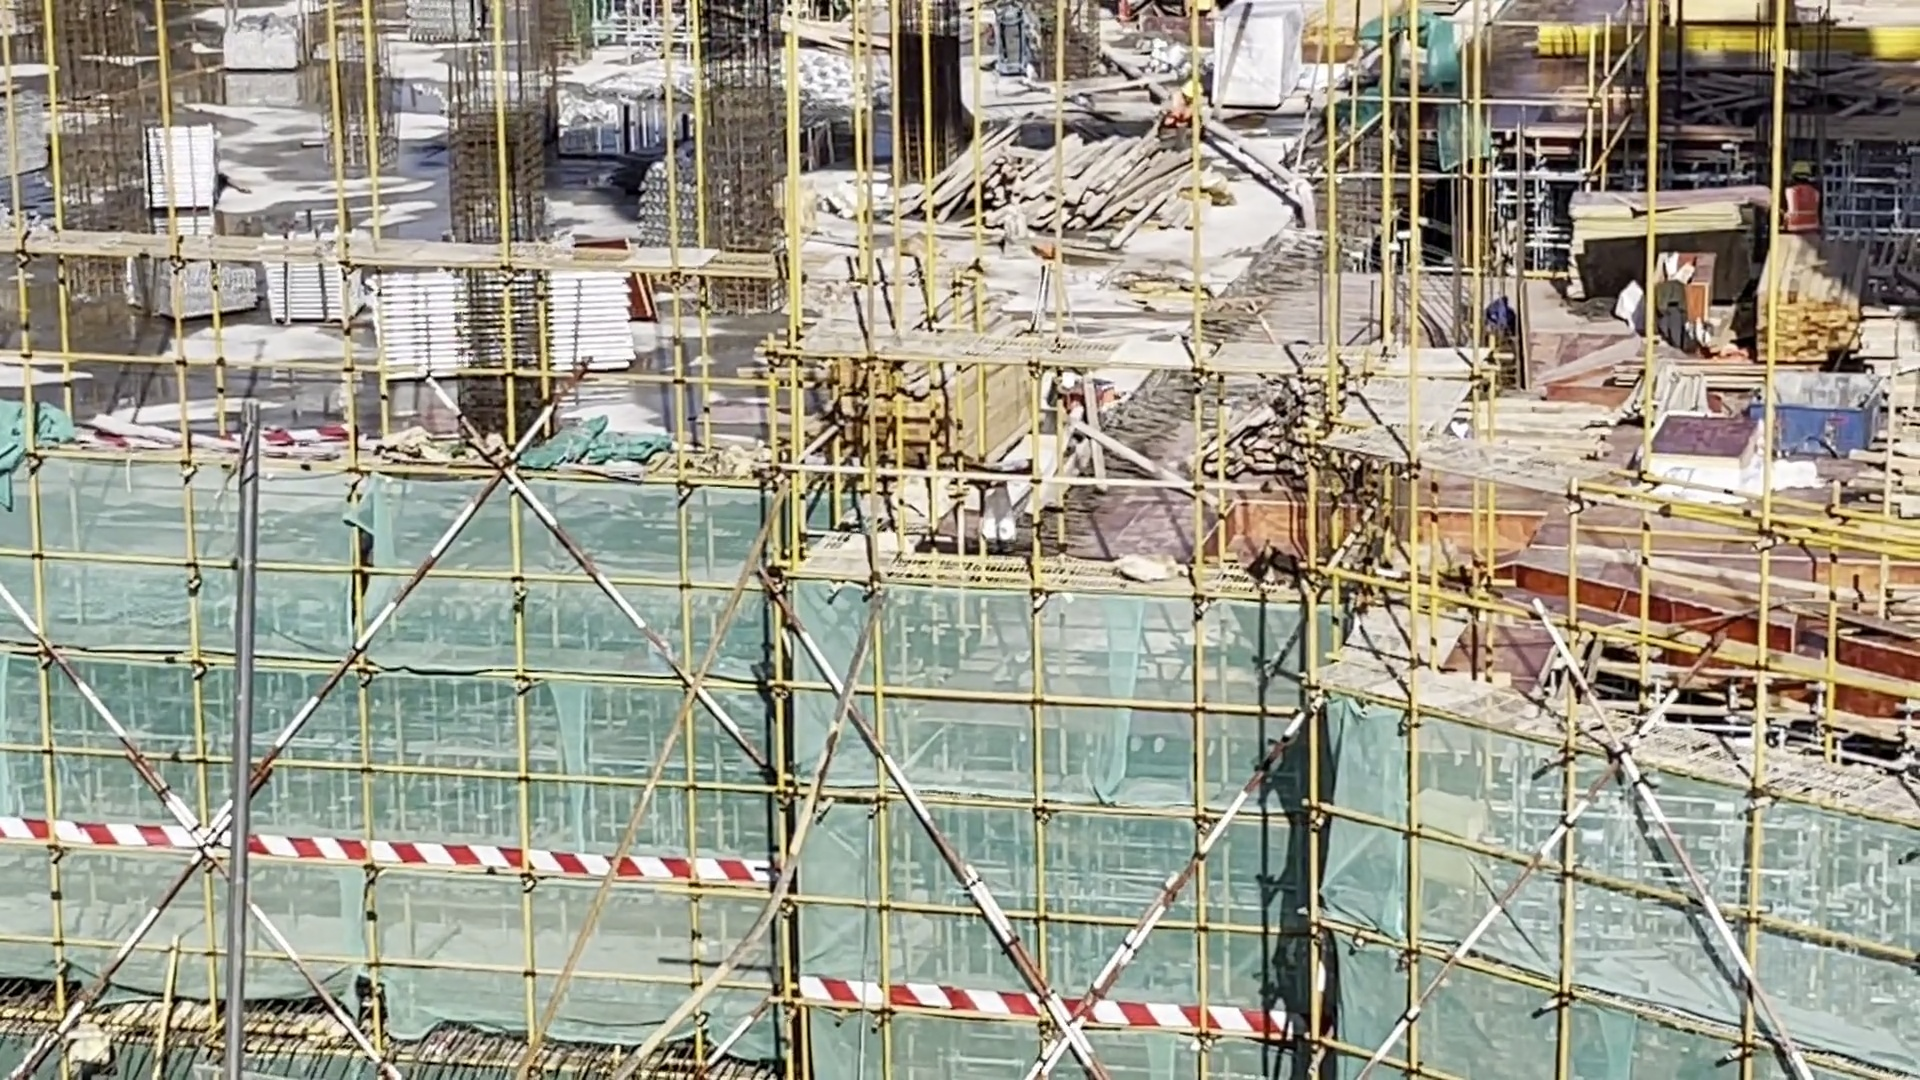helmet: (1049, 366, 1090, 403), (1174, 77, 1198, 103)
hopper: (1696, 360, 1901, 488)
person: (1156, 78, 1210, 141)
scaffold: (358, 265, 634, 381), (140, 237, 249, 323), (148, 130, 238, 215), (247, 239, 341, 315)
wood: (801, 359, 1049, 472), (892, 126, 1159, 231), (1748, 227, 1870, 389)
